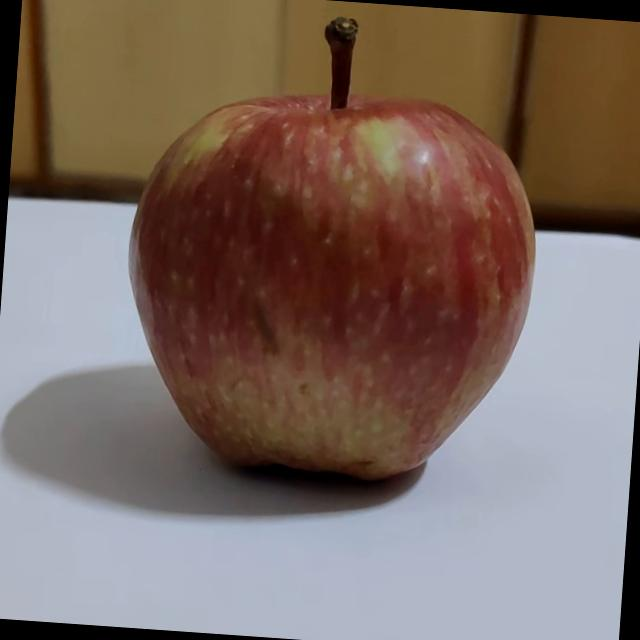apple: (107, 1, 549, 494)
